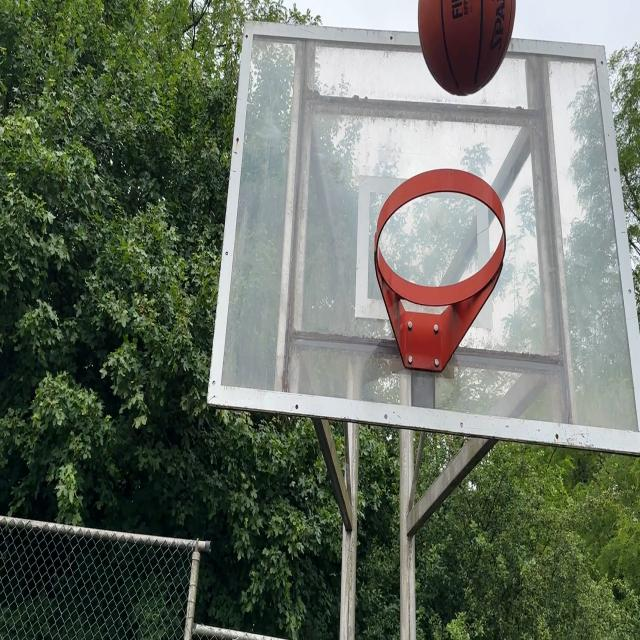Basketball: (415, 0, 514, 96)
